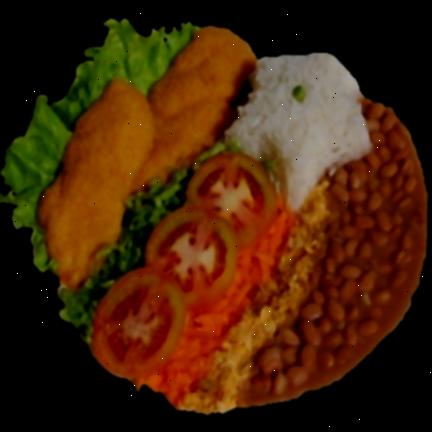beans: (242, 103, 428, 405)
carrot: (136, 195, 294, 403)
chicken: (39, 27, 255, 289)
rice: (224, 53, 370, 208)
salad: (0, 19, 197, 271), (60, 144, 222, 342)
tomato: (93, 153, 275, 382)
